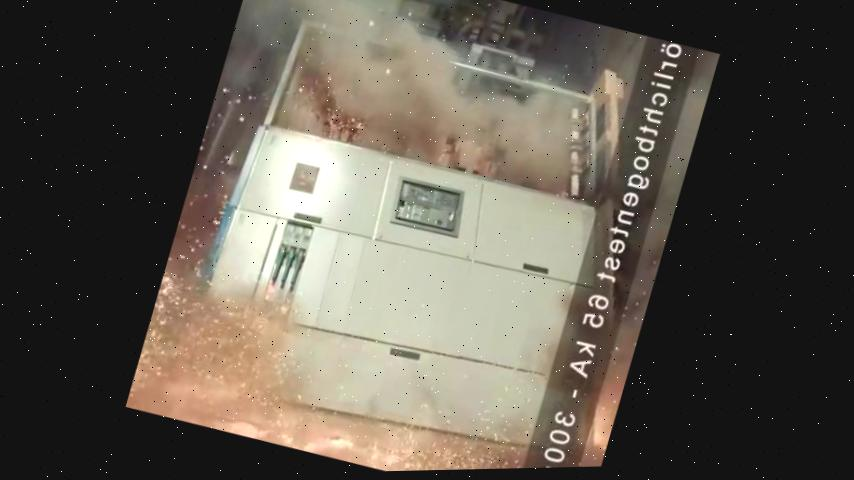fire: (122, 288, 574, 470)
